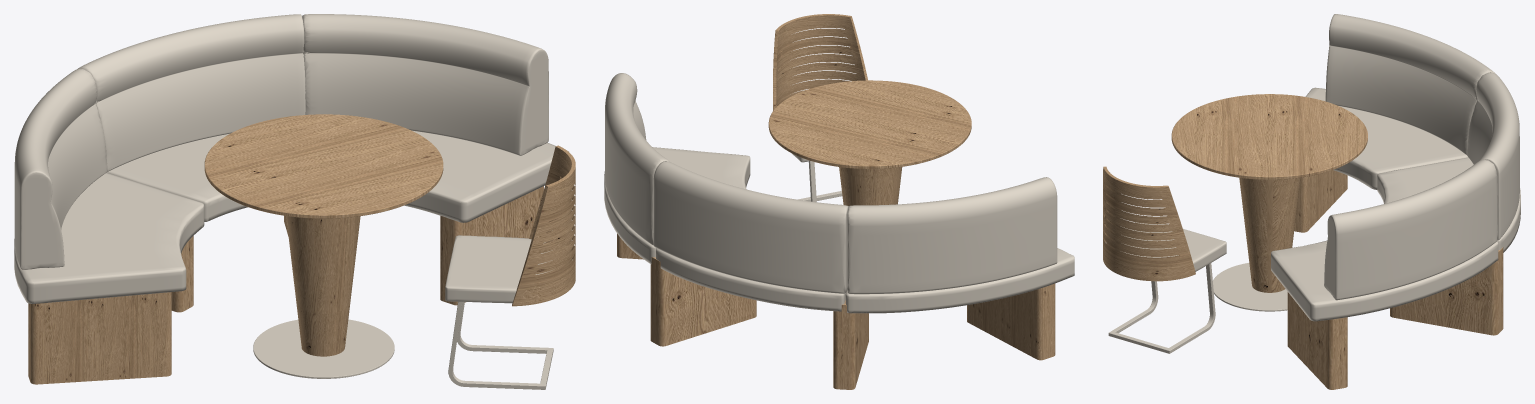
Rendered from round_table.gltf.
3 views of the same model, side by side, from view 1: azimuth 30°, elevation 25°; view 2: azimuth 150°, elevation 25°; view 3: azimuth 270°, elevation 25° (orthographic). The views are drawn at different scales.
Visible parts, largest first — view 1: 3d66.com_474959; view 2: 3d66.com_474959; view 3: 3d66.com_474959.
Boxes of the visible parts, x1,y1,x2,y2 form: 3d66.com_474959: (14,14,575,389); 3d66.com_474959: (604,14,1074,389); 3d66.com_474959: (1103,14,1520,389).
Size of the model in its own units: 2.58 by 0.9561 by 2.1.
Materials: 3 (3 with a texture image).
